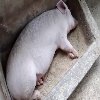heo: (6, 1, 79, 62)
